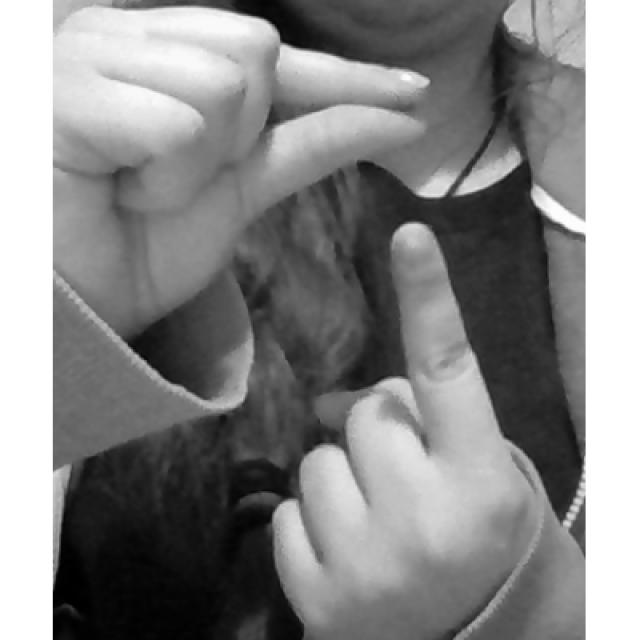I-: (54, 4, 584, 640)
